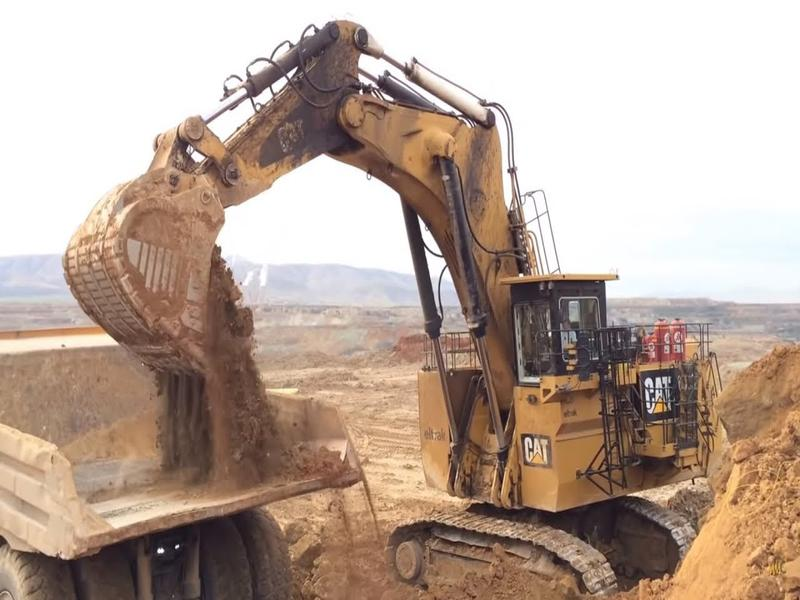shovel: (50, 17, 725, 596)
